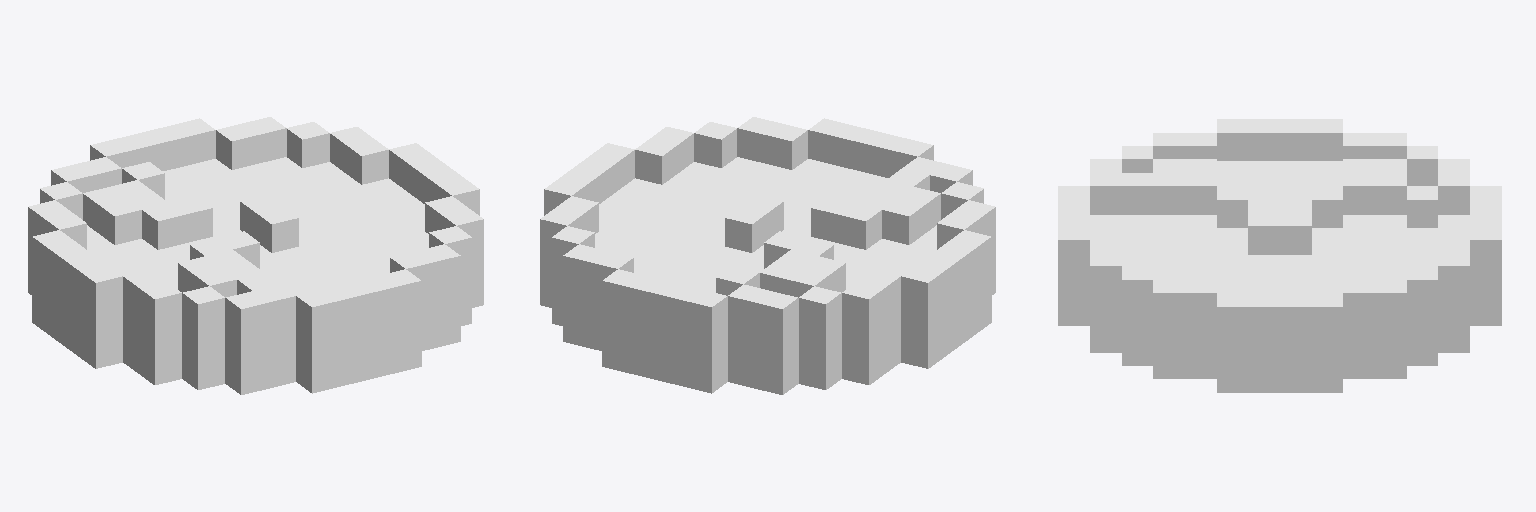
Rendered from goin.obj.
3 views of the same model, side by side, from view 1: azimuth 30°, elevation 25°; view 2: azimuth 150°, elevation 25°; view 3: azimuth 270°, elevation 25° (orthographic).
Parts seen in each view (by area): view 1: object 1; view 2: object 1; view 3: object 1.
Boxes of the visible parts, x1=… form: object 1: x1=28, y1=117, x2=483, y2=394; object 1: x1=540, y1=117, x2=995, y2=394; object 1: x1=1058, y1=119, x2=1501, y2=392.
Size of the model in its own units: 1.4 by 0.3 by 1.4.